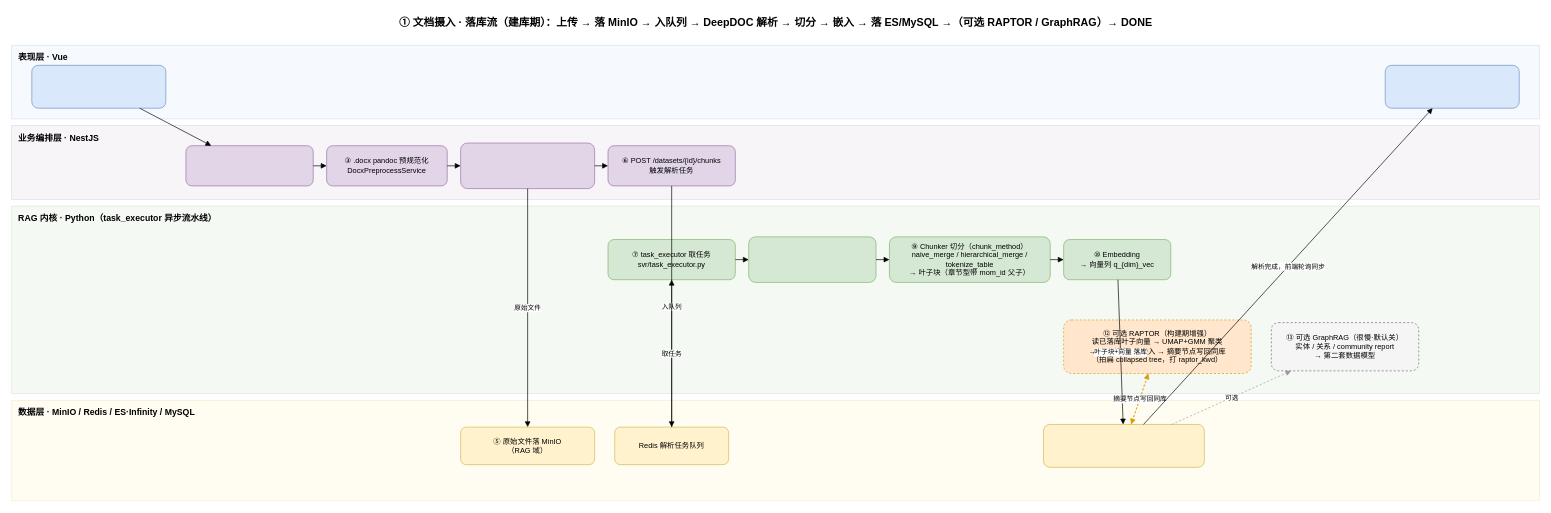
Image size: 1551x513. Some labels were removed from this diagram. Here are the shapes that lost their labels. From the top down, the centre of each, then its label:
At (98,86): "① 用户上传文件 Vue 上传组件 POST /api/knowledge-base/documents".
At (1452,86): "⑭ 轮询 document.run = DONE 刷新前端列表状态".
At (249,165): "② uploadDocuments() knowledge-base.service.ts:496".
At (527,165): "④ 转发 multipart POST /datasets/{id}/documents parser_config 持久化到 PG".
At (812,259): "⑧ DeepDOC 解析 OCR + Layout + TSR → 带坐标结构化 boxes".
At (1123,445): "⑪ 写入 ES / Infinity（向量+全文索引） + 元数据回写 MySQL".
